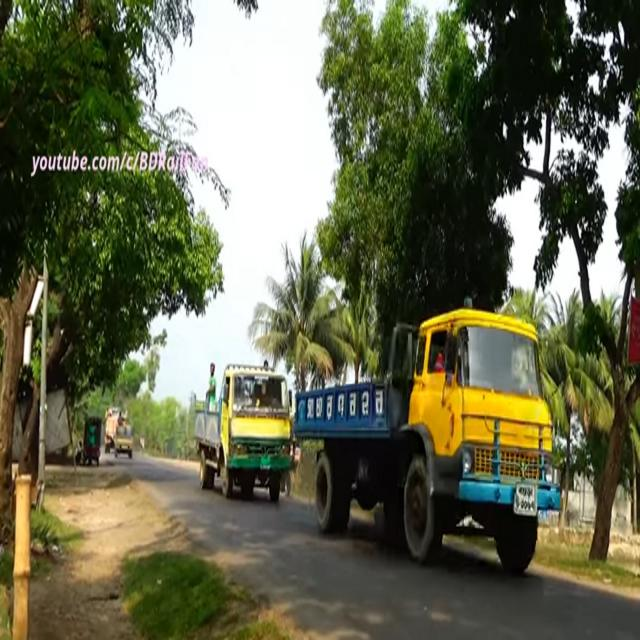truck: (290, 288, 556, 581), (192, 351, 291, 511), (111, 414, 135, 462)
